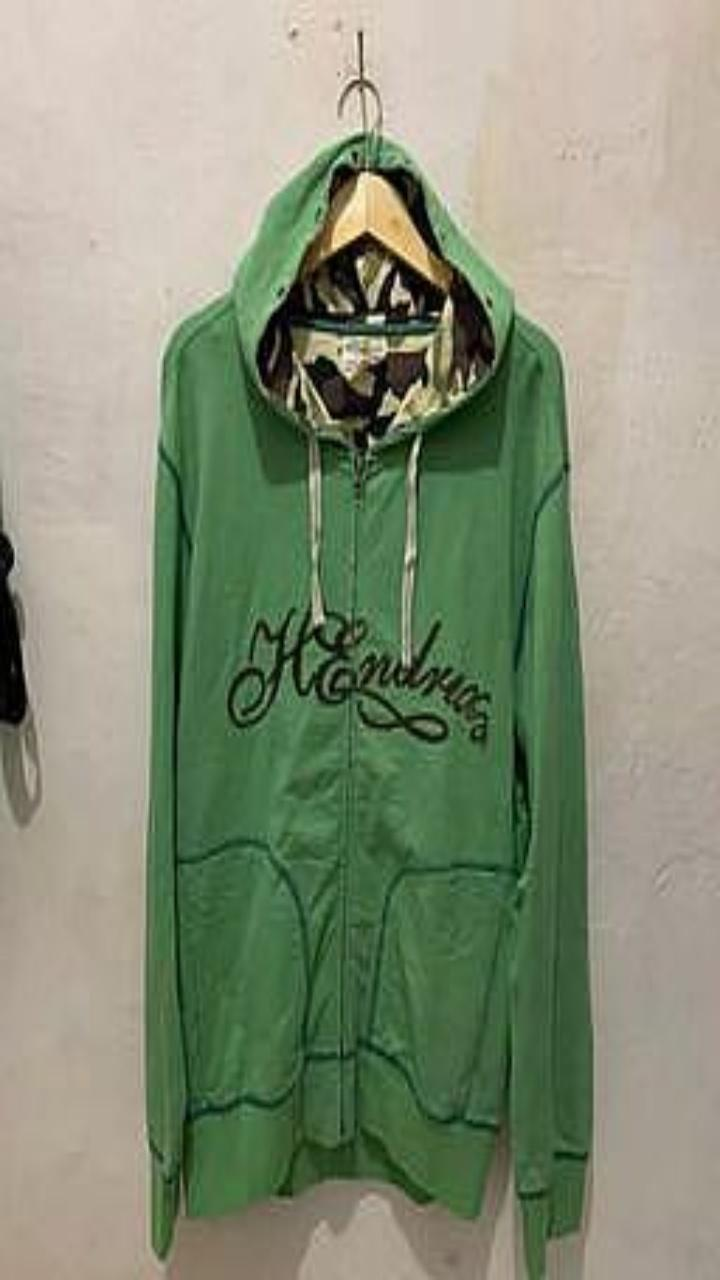Hoodie: (145, 133, 592, 1279)
